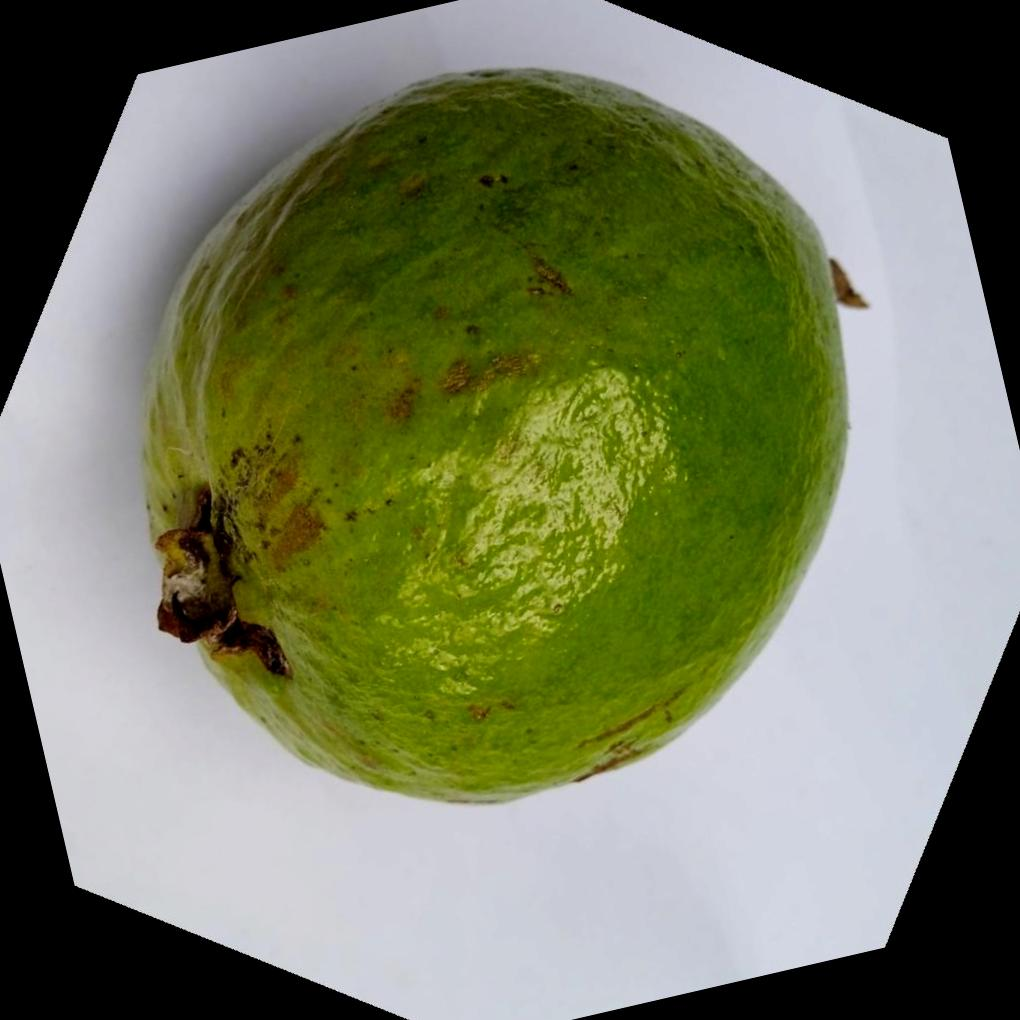FreshGuava: (137, 61, 851, 801)
